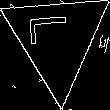L_E: (33, 22, 81, 57)
